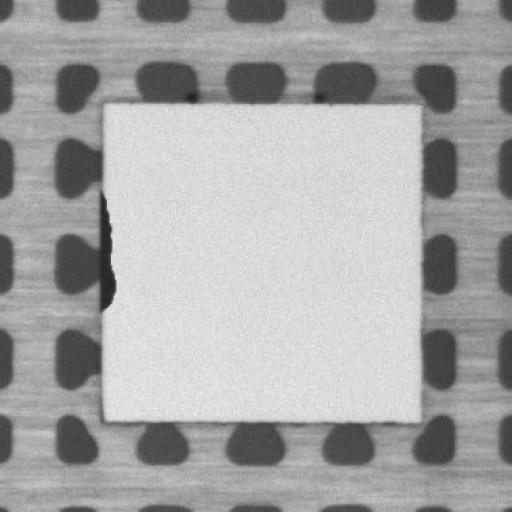DIE_BROKEN: (94, 187, 118, 320)
